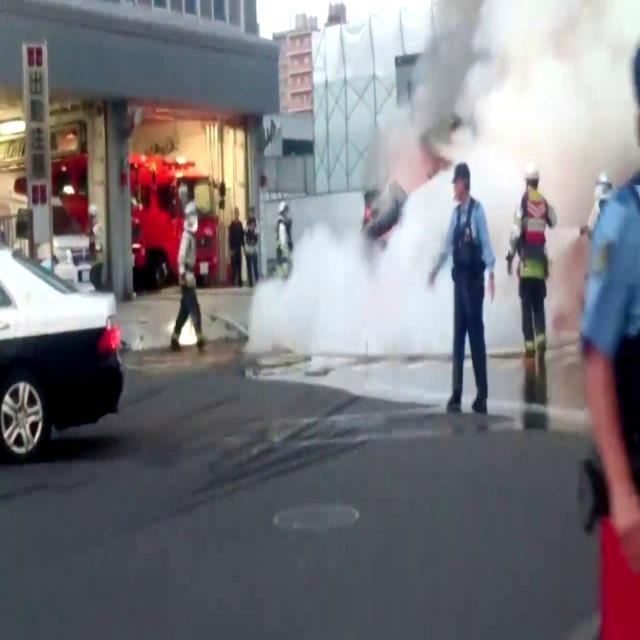Smoke: (260, 0, 640, 387)
